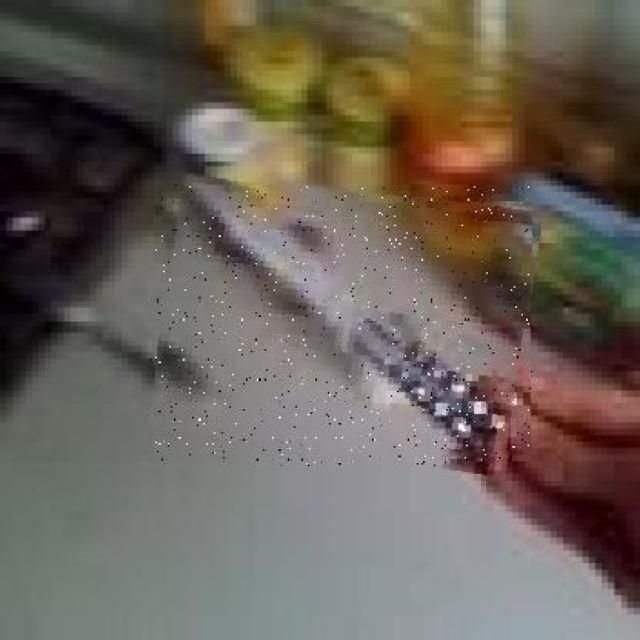knife: (155, 184, 532, 466)
